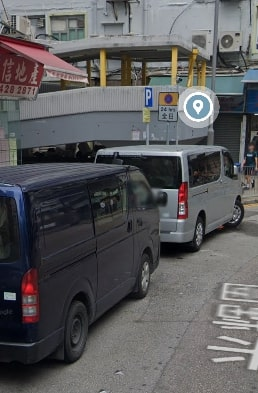Parking: (143, 87, 153, 108)
Start Of No Stopping: (156, 91, 179, 125)
